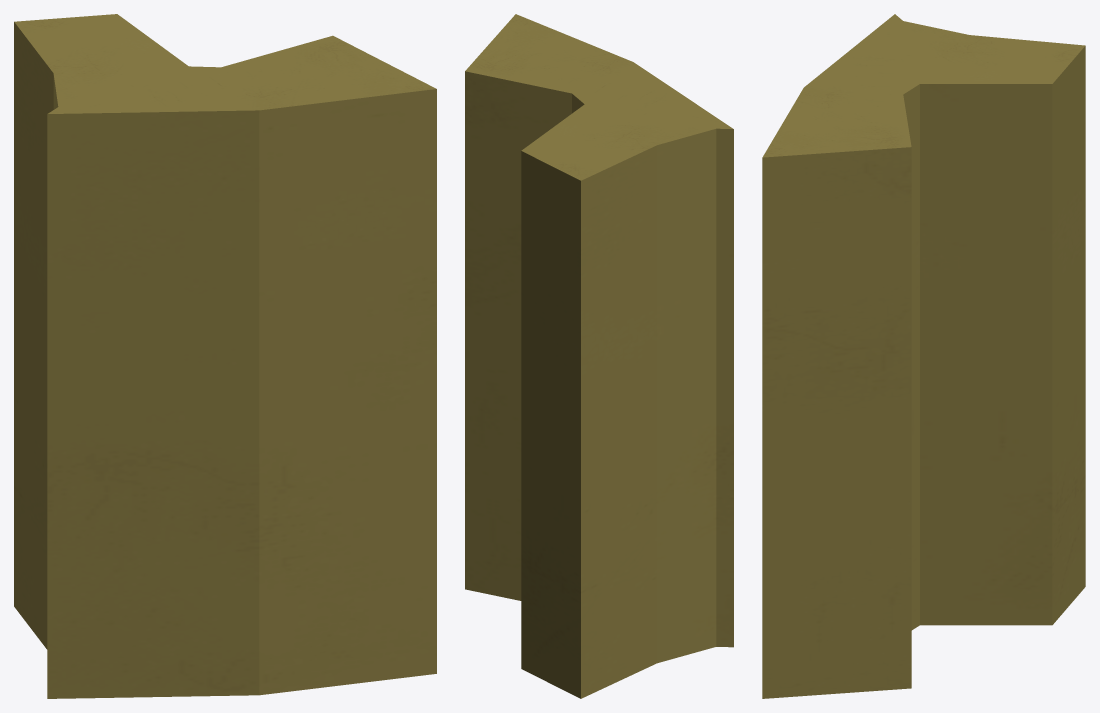
File: memeland.DAE
3 renders of one model, left to right at view 1: azimuth 30°, elevation 25°; view 2: azimuth 150°, elevation 25°; view 3: azimuth 270°, elevation 25°, orthographic. The views are drawn at different scales.
Parts seen in each view (by area): view 1: Memeland; view 2: Memeland; view 3: Memeland.
Part boxes in pixels (x1,y1,x2,y2): Memeland: [14, 14, 436, 698]; Memeland: [465, 14, 733, 698]; Memeland: [762, 14, 1085, 698].
Bounding box in the file's own units: 14.22 × 13.53 × 25.
Materials: 1 (1 with a texture image).
